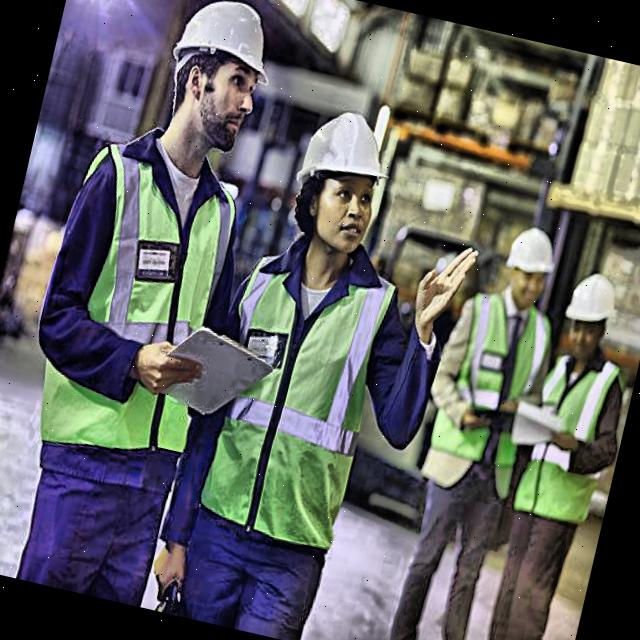helmet: (278, 87, 415, 273), (146, 0, 292, 157), (550, 262, 629, 372), (490, 216, 564, 317)
